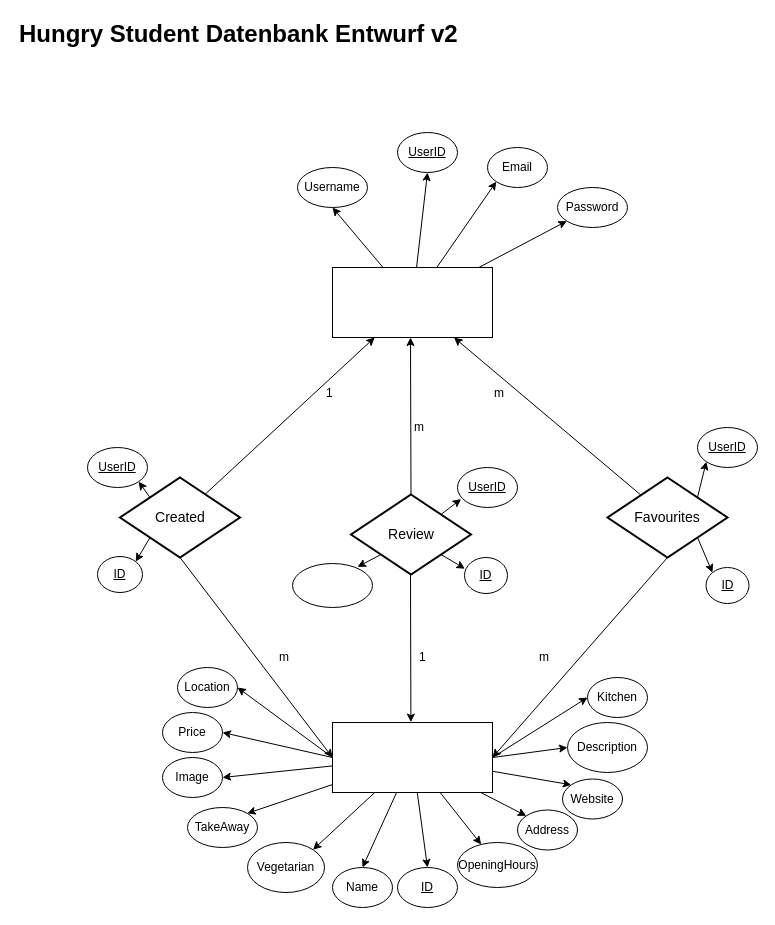
Image size: 775x925. Some labels were removed from this diagram. Here are the shapes that lost their labels. From the top down, the box of each, then its label:
(332, 266, 492, 338): User
(292, 562, 372, 608): ReviewText
(332, 722, 492, 792): Marker
